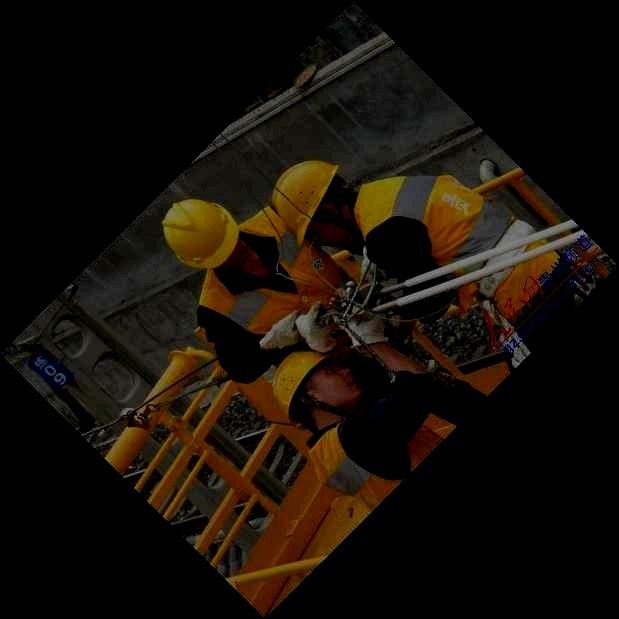helmet: (270, 160, 357, 249), (271, 349, 359, 433), (161, 197, 239, 270)
